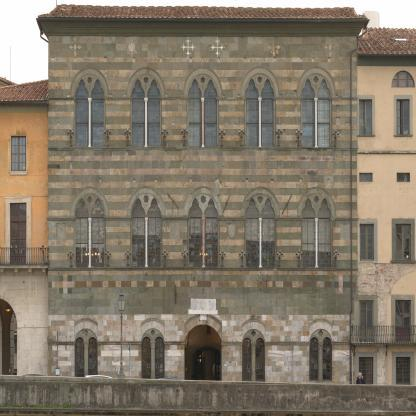Building Outline: (35, 4, 370, 385)
Cornice: (309, 318, 333, 342), (74, 318, 98, 341), (242, 318, 265, 342), (141, 318, 164, 341)
Door: (184, 324, 222, 381)
Facade: (35, 3, 371, 385)
Floor: (49, 168, 357, 281)
Floor Slab: (49, 161, 357, 168), (49, 281, 357, 288)
Ground Floor: (49, 288, 357, 384)
Molding: (36, 18, 370, 36)
Roof: (38, 4, 370, 19)
Top Floor: (49, 37, 357, 161)
Window: (189, 198, 203, 267), (75, 79, 89, 148), (301, 79, 315, 148), (131, 79, 145, 148), (188, 79, 202, 148), (245, 79, 259, 148), (75, 199, 89, 267), (91, 199, 105, 267), (302, 199, 316, 267), (132, 199, 146, 267), (147, 199, 161, 267), (204, 199, 218, 267), (245, 199, 259, 267), (261, 199, 275, 267), (318, 199, 331, 267), (91, 80, 104, 148), (317, 80, 330, 148), (147, 80, 160, 148), (204, 80, 217, 148), (261, 80, 274, 148), (255, 337, 265, 382), (242, 337, 252, 382), (322, 337, 332, 381), (309, 337, 319, 381), (154, 337, 164, 381), (141, 337, 151, 381), (88, 337, 97, 381), (75, 337, 84, 381)
